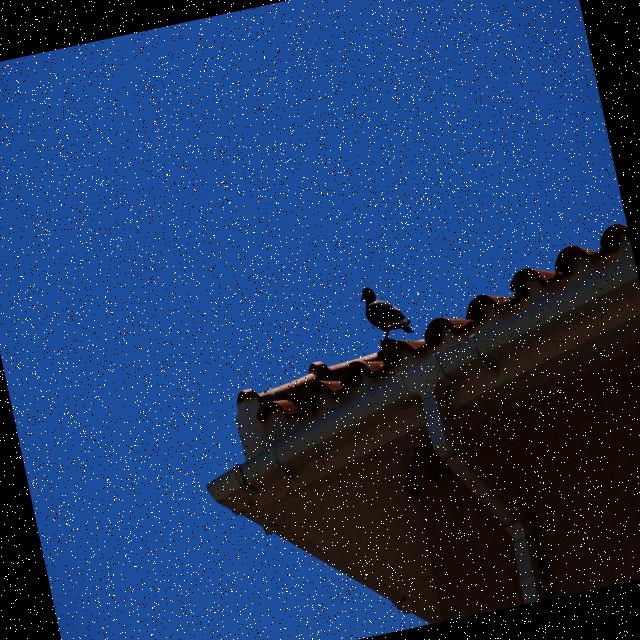bird: (356, 278, 416, 347)
